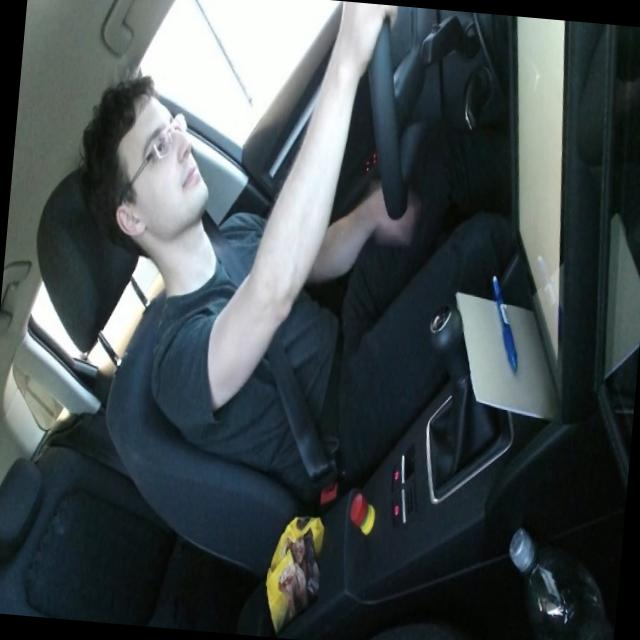pen: (482, 271, 526, 374)
